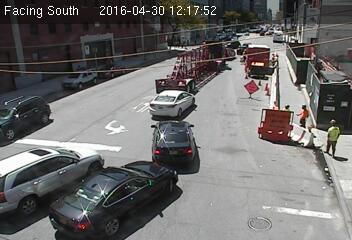neg: (115, 165, 148, 209), (218, 149, 244, 184), (82, 96, 101, 122), (289, 170, 305, 192), (237, 80, 252, 100), (259, 78, 274, 98), (162, 95, 177, 115)
pos: (320, 119, 350, 159), (294, 103, 317, 134), (267, 52, 280, 70), (240, 47, 253, 65)
